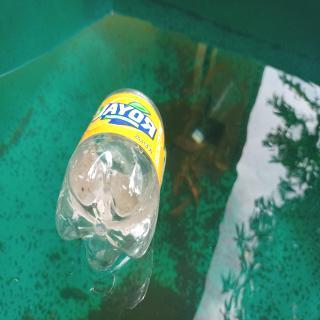bottle: (53, 84, 168, 274)
